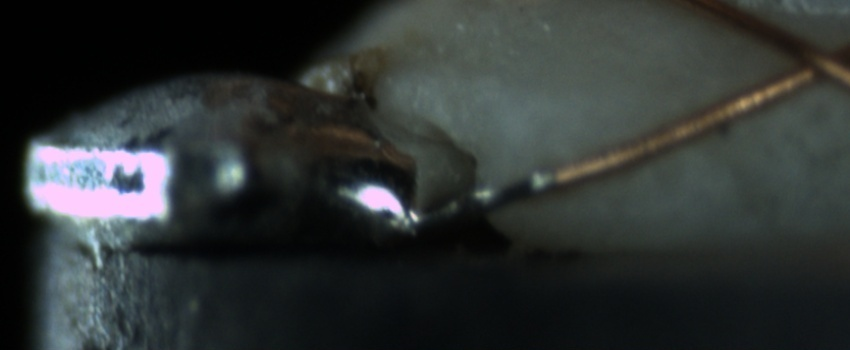CL: (764, 22, 847, 95)
TB: (452, 182, 512, 212)
TS: (390, 171, 554, 235)
TTCW: (390, 152, 604, 235)
